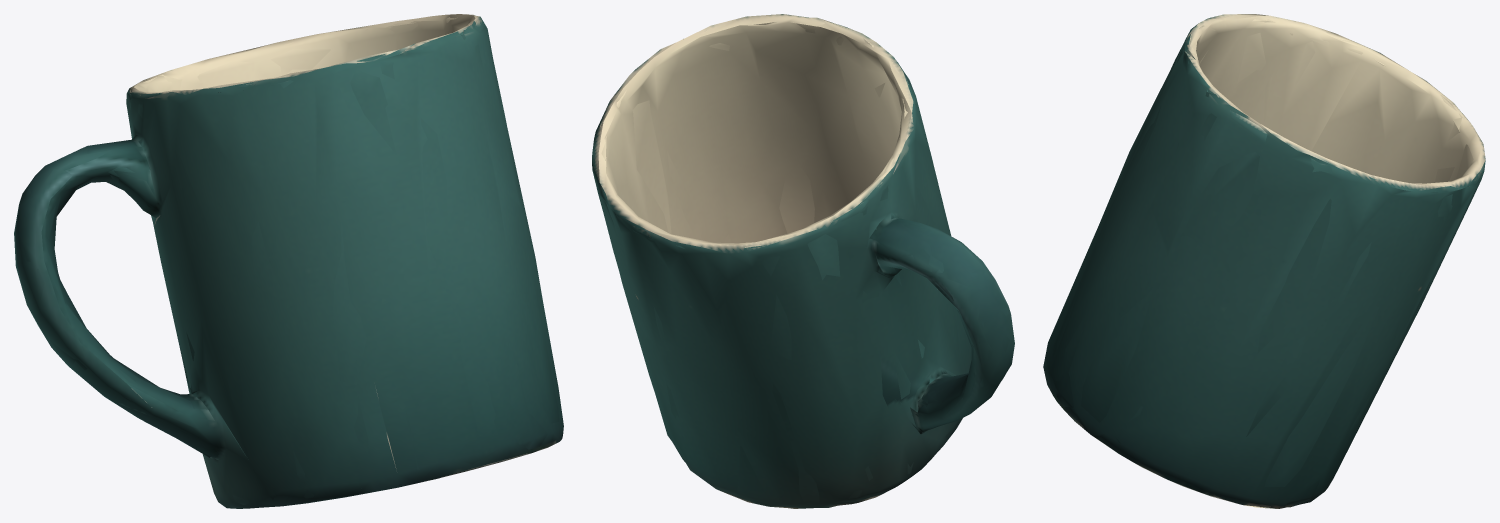
Rendered from ceramic_coffee_mug_with_a_LOD1.glb.
3 views of the same model, side by side, from view 1: azimuth 30°, elevation 25°; view 2: azimuth 150°, elevation 25°; view 3: azimuth 270°, elevation 25° (orthographic). The views are drawn at different scales.
Visible parts, largest first — view 1: ceramic_coffee_mug_with_a_LOD1; view 2: ceramic_coffee_mug_with_a_LOD1; view 3: ceramic_coffee_mug_with_a_LOD1.
Part boxes in pixels (x1,y1,x2,y2): ceramic_coffee_mug_with_a_LOD1: (14,14,563,508); ceramic_coffee_mug_with_a_LOD1: (592,14,1014,508); ceramic_coffee_mug_with_a_LOD1: (1043,14,1485,508).
Size of the model in its own units: 0.0962 by 0.1 by 0.093.
Materials: 1 (1 with a texture image).
